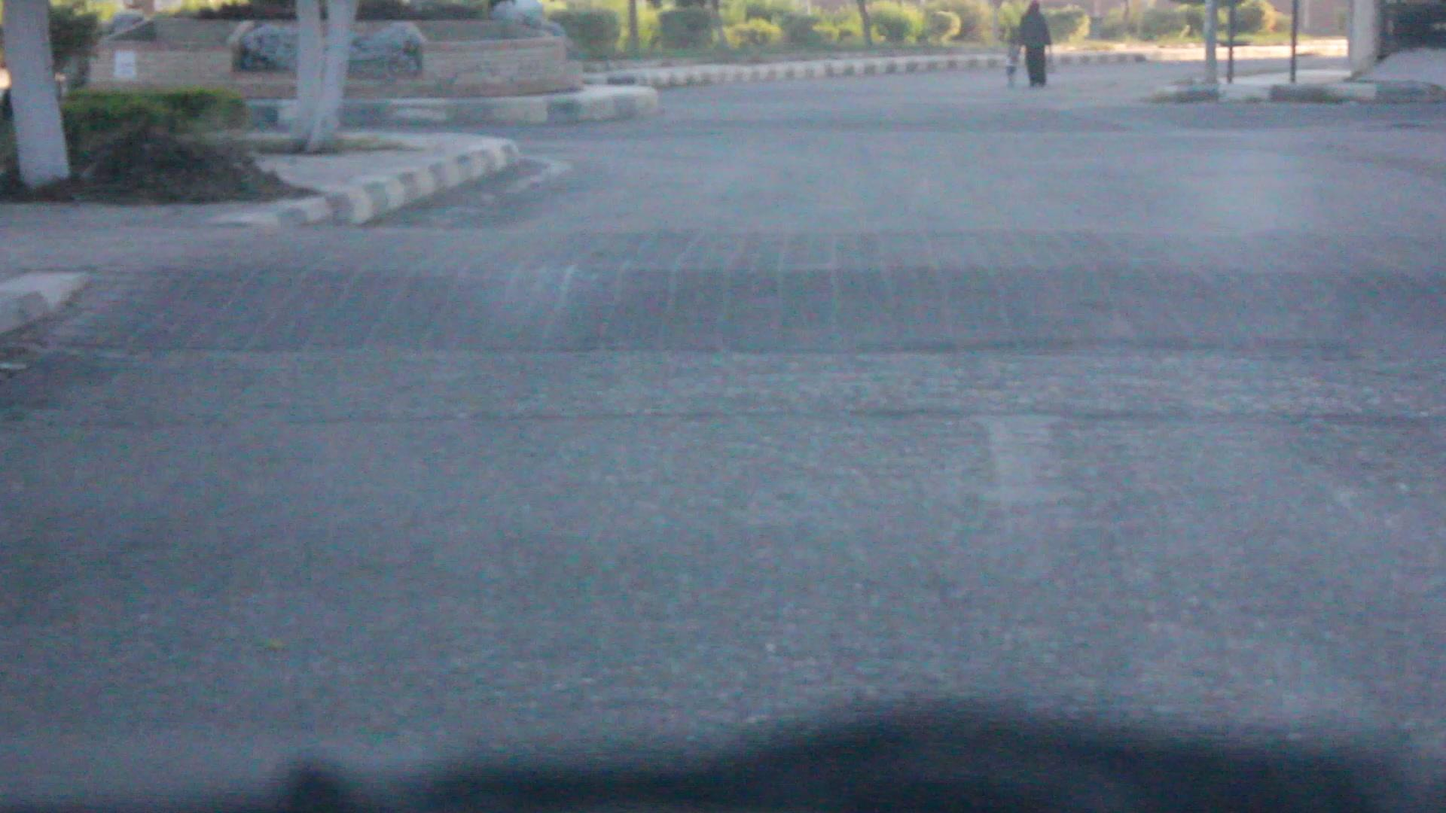Bump: (137, 211, 1446, 395)
